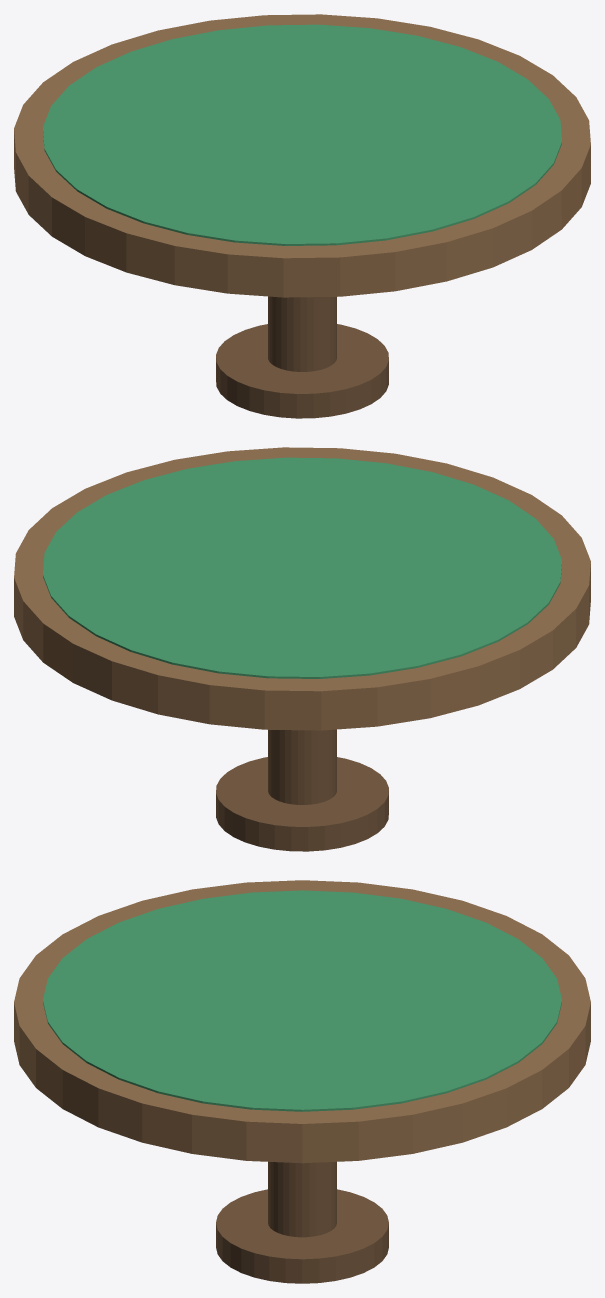
Rendered from POKER-01.glb.
The picture shows the model from 3 angles, top to bottom: view 1: azimuth 30°, elevation 25°; view 2: azimuth 150°, elevation 25°; view 3: azimuth 270°, elevation 25°; orthographic projection.
Parts seen in each view (by area): view 1: poker_table; view 2: poker_table; view 3: poker_table.
Boxes of the visible parts, left/top/right/bottom form: poker_table: left=14, top=14, right=590, bottom=418; poker_table: left=14, top=447, right=590, bottom=851; poker_table: left=14, top=880, right=590, bottom=1283.
Size of the model in its own units: 1.6 by 0.756 by 1.6.
